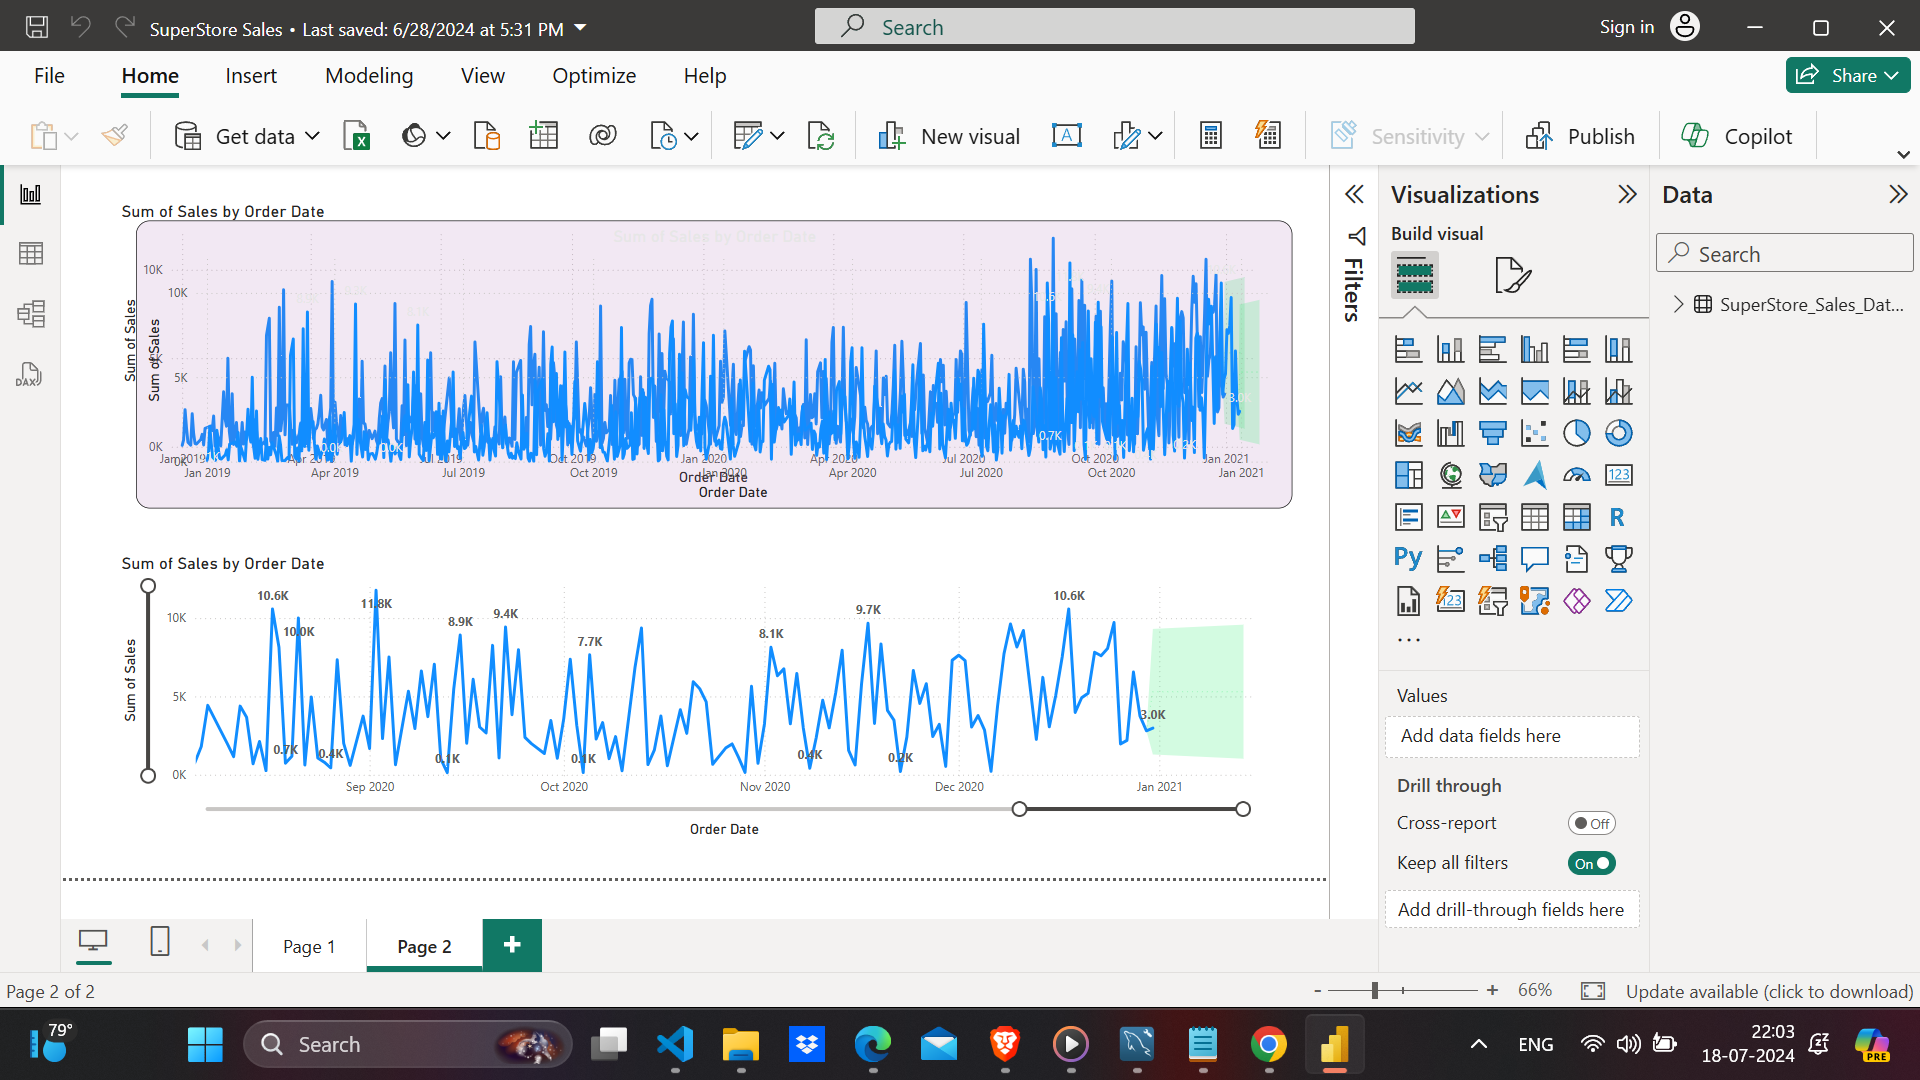

The page's visual inventory and layout, read from the dashboard file:
{"tool":"powerbi","page":{"name":"Page 2","canvas":[1280,720],"ordinal":1},"visuals":[{"type":"lineChart","fields":{"Y":["Sum(SuperStore_Sales_Dataset.Sales)"],"Category":["SuperStore_Sales_Dataset.Order Date"]},"box":[56,36.3,1167.5,290.7],"z":0},{"type":"lineChart","fields":{"Y":["Sum(SuperStore_Sales_Dataset.Sales)"],"Category":["SuperStore_Sales_Dataset.Order Date"]},"box":[56.7,391.7,1166.7,290],"z":1000},{"type":"lineChart","fields":{"Y":["Sum(SuperStore_Sales_Dataset.Sales)"],"Category":["SuperStore_Sales_Dataset.Order Date"]},"box":[76,56.3,1167.5,290.7],"z":1001}]}

Visuals, with their boxes on the page's 1280x720 design canvas (x1, y1, x2, y2). These are canvas units, not pixel positions in the 1920x1080 screenshot, which may show the page scaled, cropped or inside an application window:
lineChart - Sum(SuperStore_Sales_Dataset.Sales) x SuperStore_Sales_Dataset.Order Date: rect(56, 36, 1224, 327)
lineChart - Sum(SuperStore_Sales_Dataset.Sales) x SuperStore_Sales_Dataset.Order Date: rect(57, 392, 1223, 682)
lineChart - Sum(SuperStore_Sales_Dataset.Sales) x SuperStore_Sales_Dataset.Order Date: rect(76, 56, 1244, 347)
